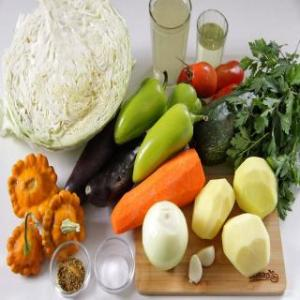bell_pepper: (130, 101, 208, 183), (113, 70, 170, 146)
cabbage: (0, 0, 134, 154)
carrot: (110, 147, 206, 239)
garlic: (188, 247, 216, 285)
onion: (138, 198, 190, 278)
potato: (222, 208, 272, 282), (191, 168, 237, 245), (230, 154, 280, 218)
tomato: (176, 59, 218, 104), (217, 61, 243, 83)
zucchini: (201, 81, 291, 155)
